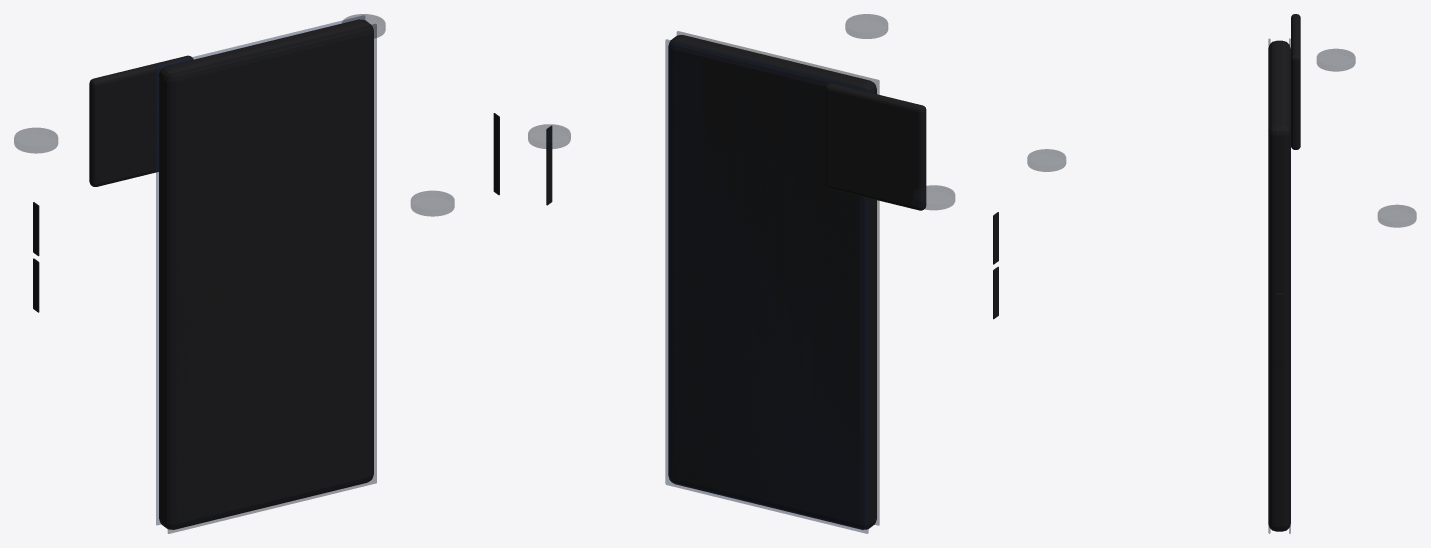
The model's file is iPhone_18_Pro.glb.
The picture shows the model from 3 angles, left to right: view 1: azimuth 30°, elevation 25°; view 2: azimuth 150°, elevation 25°; view 3: azimuth 270°, elevation 25°; orthographic projection. The views are drawn at different scales.
Parts seen in each view (by area): view 1: frame.band, glass.front, camera.island, glass.back, camera.lens_2, camera.lens_1; view 2: frame.band, glass.back, camera.island, glass.front, camera.lens_3, camera.lens_2, camera.lens_1; view 3: frame.band, glass.front, camera.island, glass.back, button.side, camera.lens_2, camera.lens_3, camera.lens_1.
Part boxes in pixels (<box>): frame.band: <box>159,19,373,529</box>; glass.front: <box>168,24,376,533</box>; camera.island: <box>89,55,193,186</box>; glass.back: <box>156,15,364,525</box>; camera.lens_2: <box>411,191,454,216</box>; camera.lens_1: <box>14,128,57,153</box>; frame.band: <box>668,35,876,529</box>; glass.back: <box>665,39,868,533</box>; camera.island: <box>825,83,926,210</box>; glass.front: <box>677,31,879,525</box>; camera.lens_3: <box>528,124,570,148</box>; camera.lens_2: <box>845,14,887,38</box>; camera.lens_1: <box>912,185,954,209</box>; frame.band: <box>1268,40,1290,531</box>; glass.front: <box>1268,38,1270,533</box>; camera.island: <box>1291,14,1300,149</box>; glass.back: <box>1289,38,1290,533</box>; button.side: <box>1274,293,1284,363</box>; camera.lens_2: <box>1027,149,1065,171</box>; camera.lens_3: <box>1378,205,1416,227</box>; camera.lens_1: <box>1317,49,1355,71</box>.
Bounding box in the file's own units: 0.1714 × 0.163 × 0.1416.
